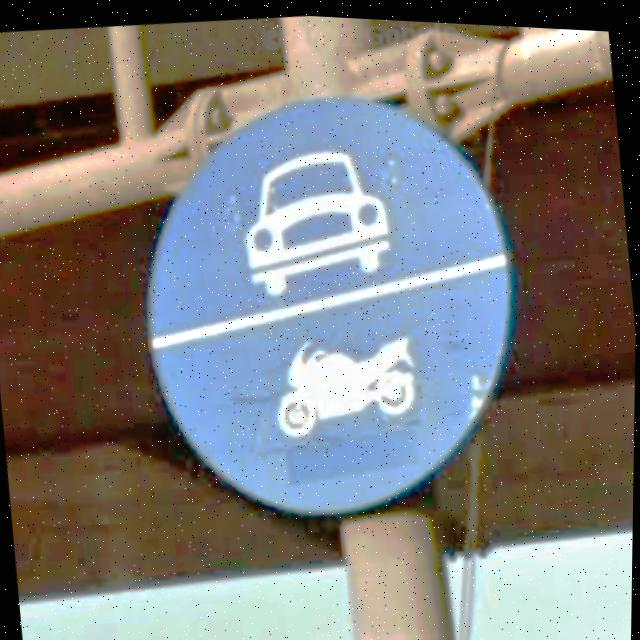carmotorcycle: (147, 95, 515, 514)
